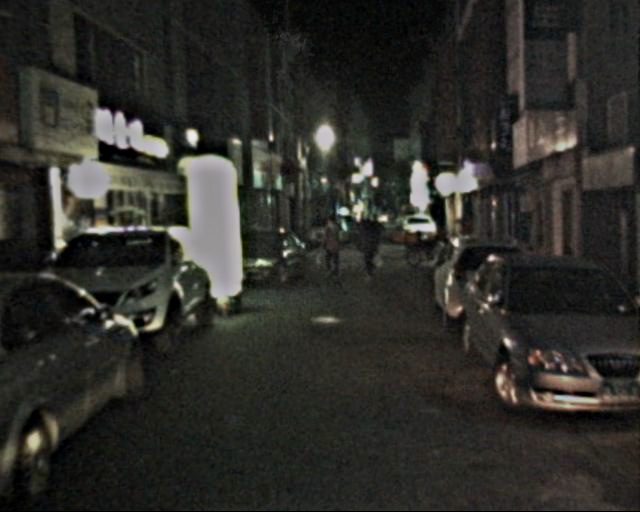person: (351, 215, 380, 286), (316, 214, 344, 283)
